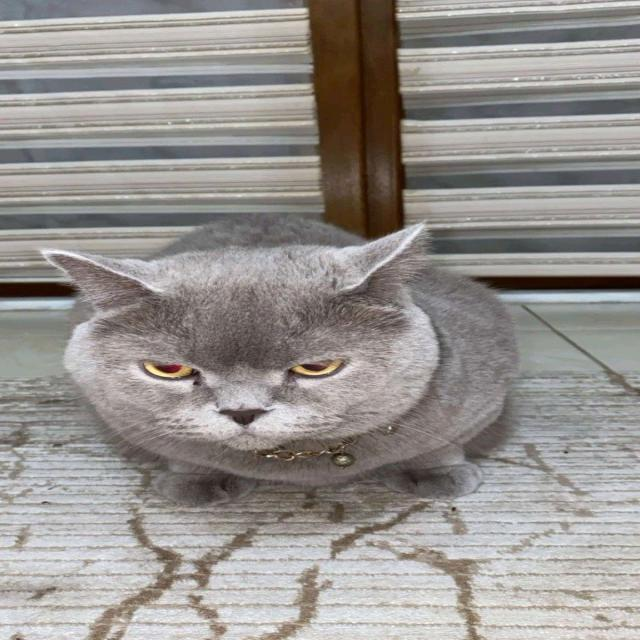british shorthair: (29, 89, 606, 637)
